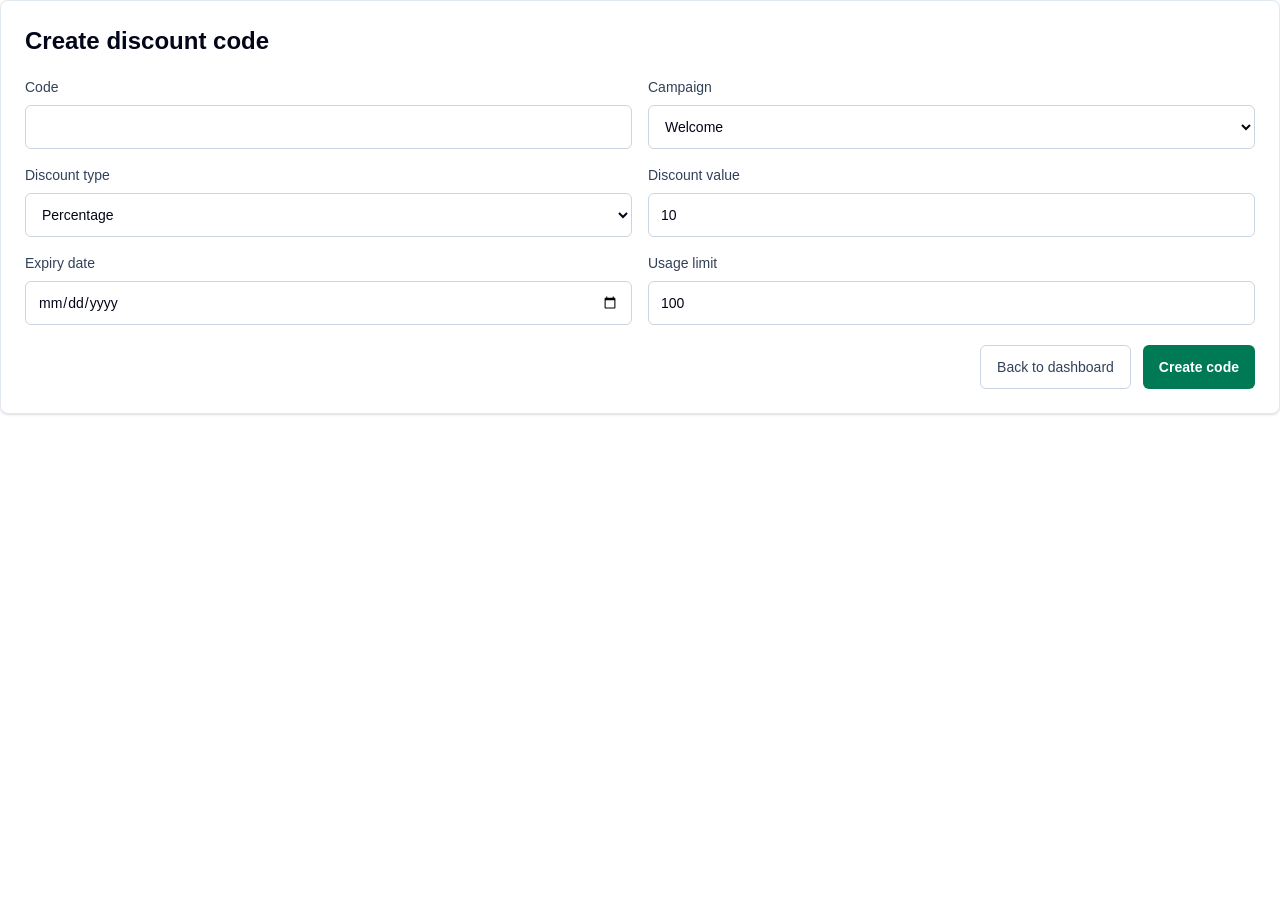
Test case: DiscountCodeForm › keeps discount form data when campaign creation fails
Type "SAVE15" into the field labelled "Code" at (328, 127), box [25, 105, 632, 149]
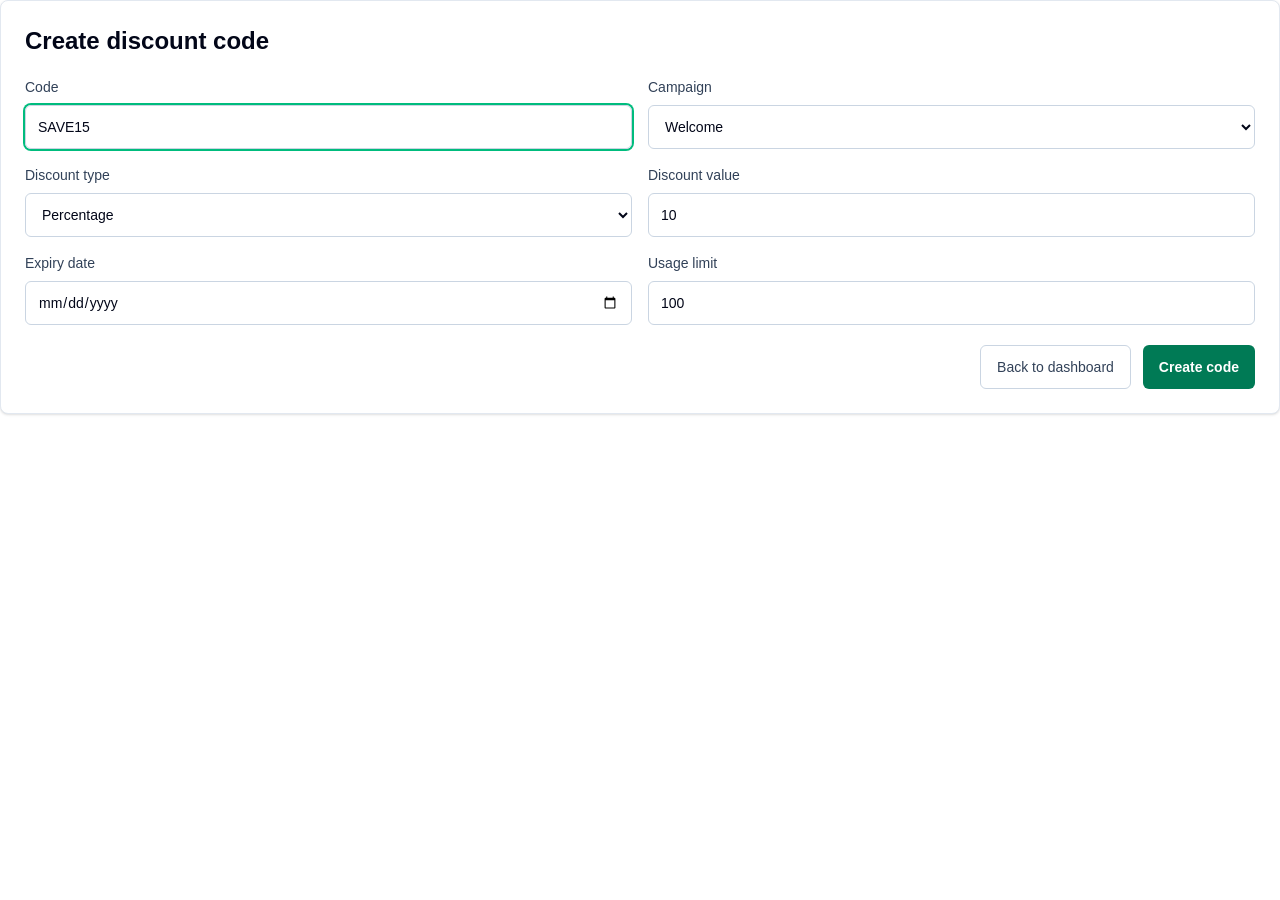
Select "Add new campaign..." in the dropdown labelled "Campaign" at (952, 127), box [648, 105, 1255, 149]
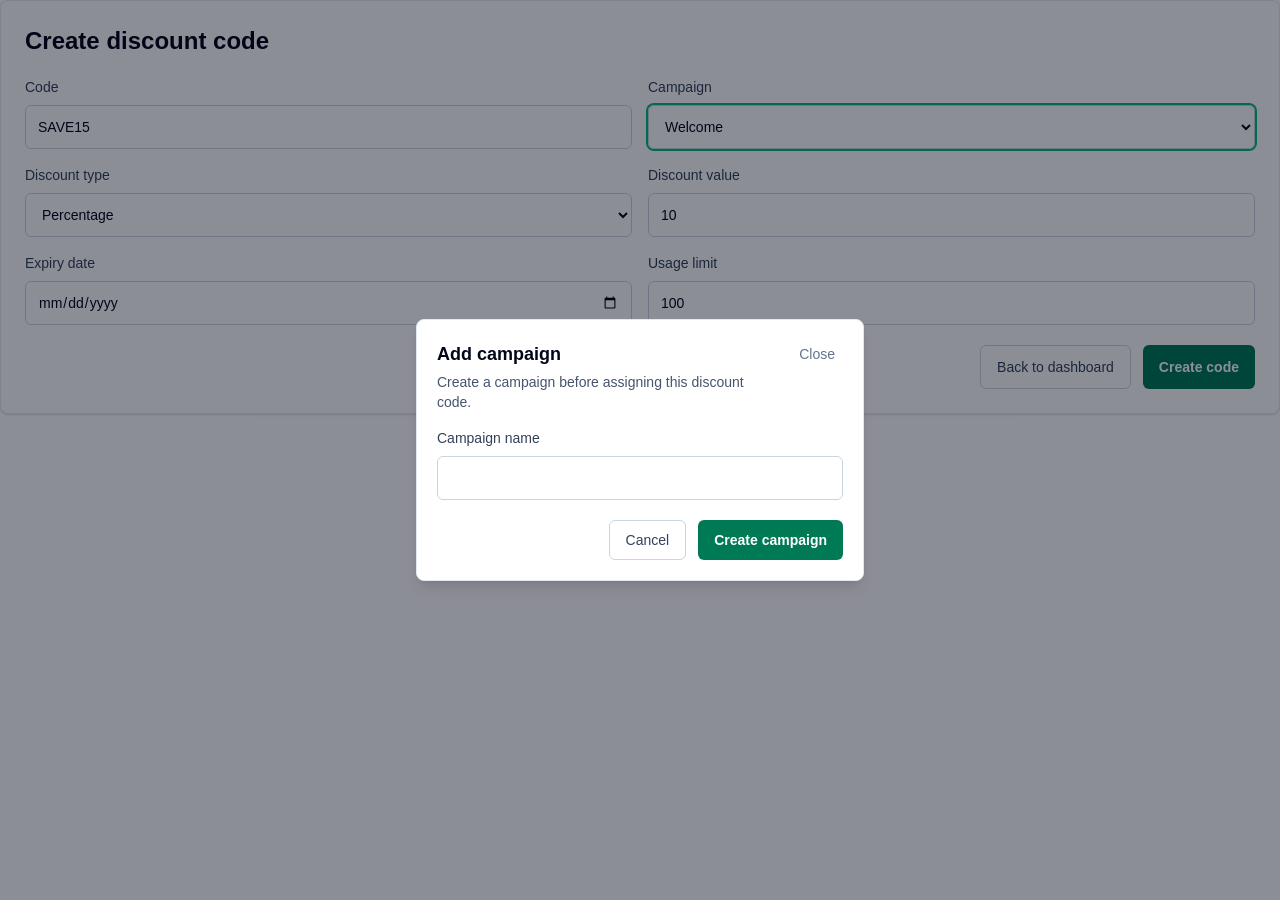
Type "Welcome" into the field labelled "Campaign name" at (640, 478), box [437, 456, 843, 500]
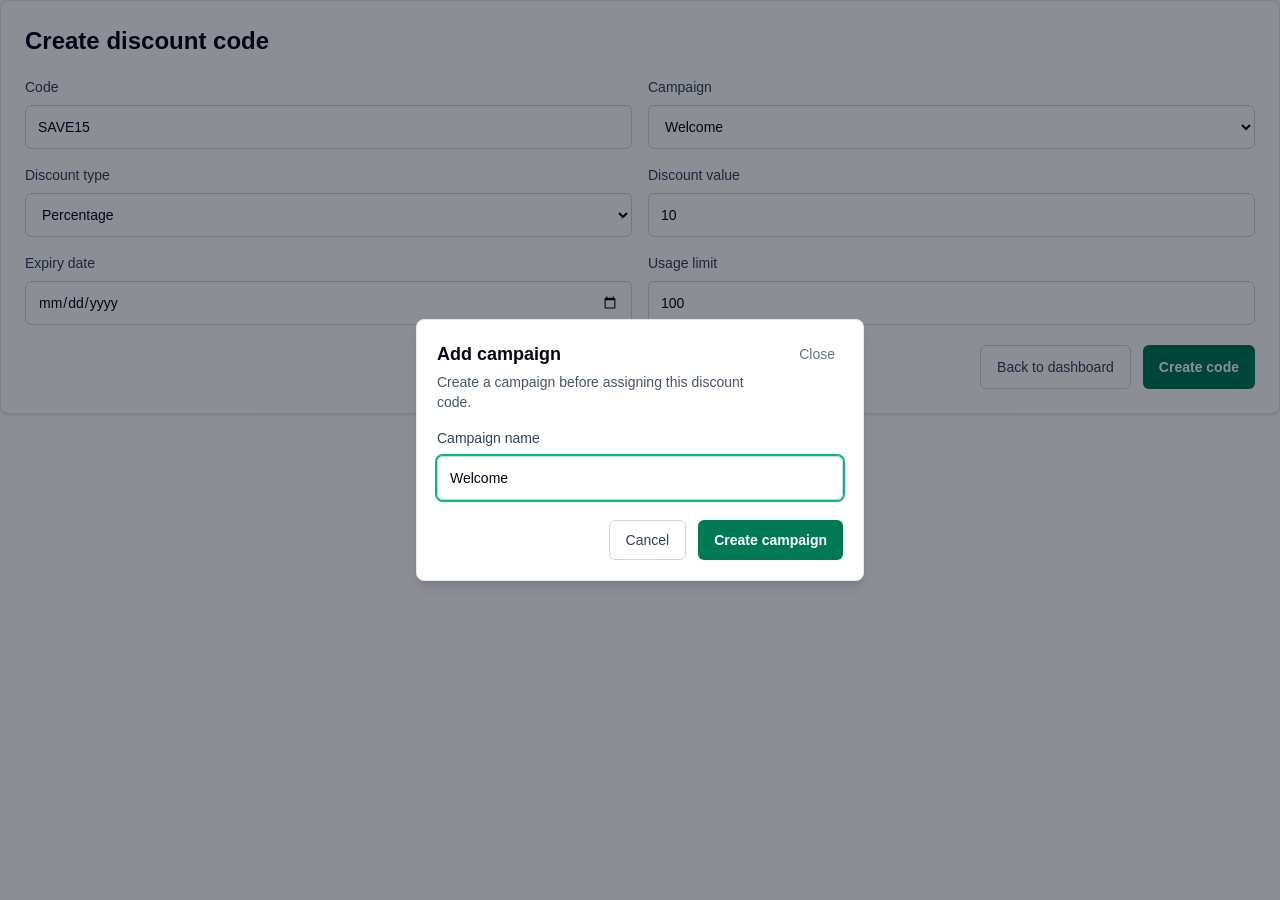
Click the button "Create campaign" at (771, 540), box [698, 520, 843, 560]
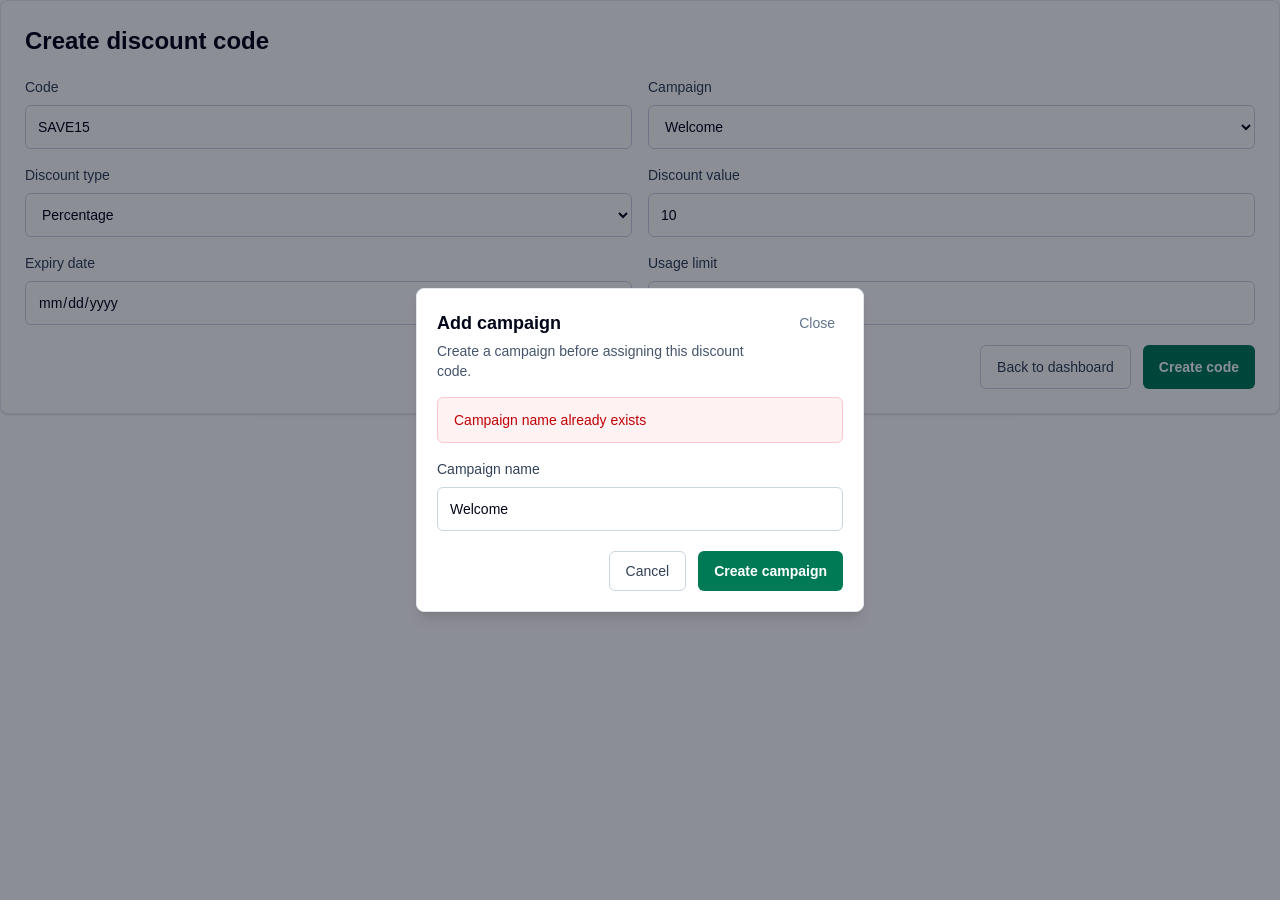
Expected: the text "Campaign name already exists" is shown, [437, 397, 843, 443]
